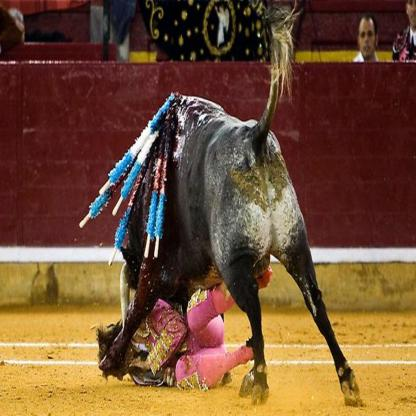face: (360, 19, 376, 59), (408, 1, 416, 27)
